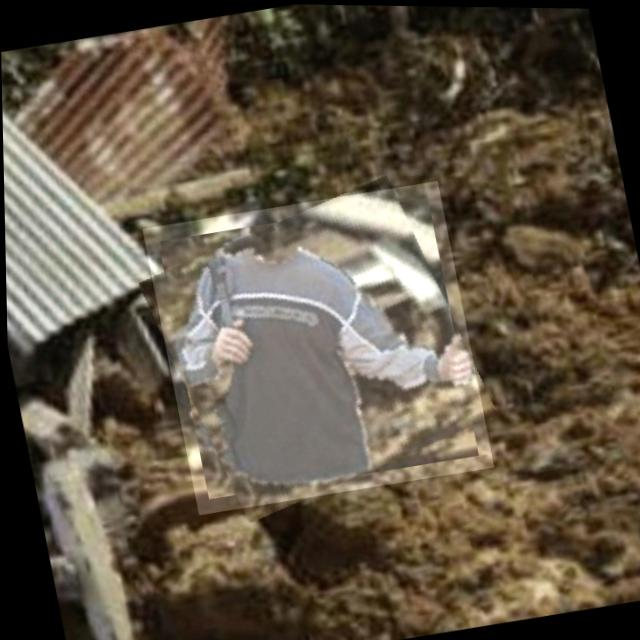Person in Rubble: (140, 176, 493, 518)
